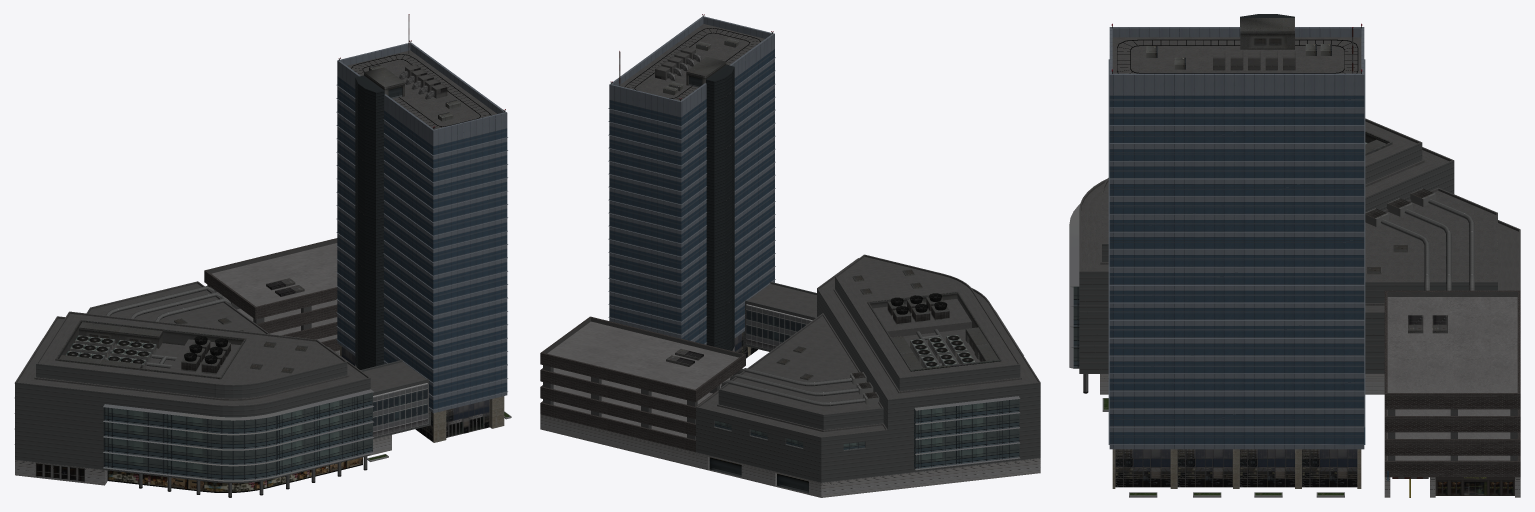
File: ceshi-v1.glb
3 views of the same model, side by side, from view 1: azimuth 30°, elevation 25°; view 2: azimuth 150°, elevation 25°; view 3: azimuth 270°, elevation 25° (orthographic). The views are drawn at different scales.
Parts seen in each view (by area): view 1: 45building; view 2: 45building; view 3: 45building.
Boxes of the visible parts, x1=… form: 45building: x1=14, y1=14, x2=511, y2=497; 45building: x1=540, y1=14, x2=1040, y2=497; 45building: x1=1069, y1=14, x2=1520, y2=497.
Bounding box in the file's own units: 9421 × 7163 × 6380.
Materials: 1 (1 with a texture image).
